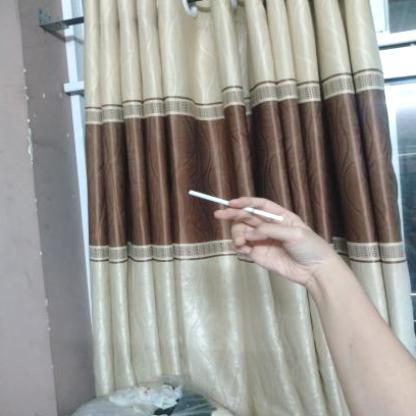cigarette: (186, 188, 286, 223)
